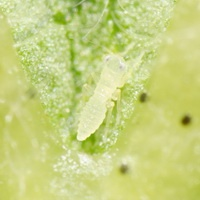insect: (0, 0, 199, 199)
